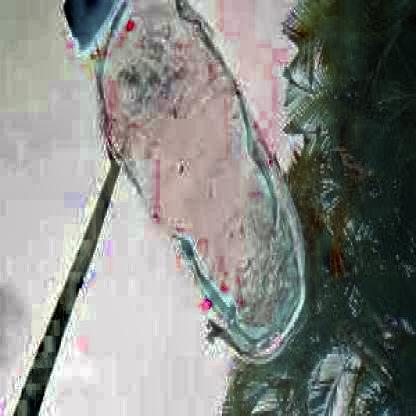pbottle: (52, 2, 317, 374)
